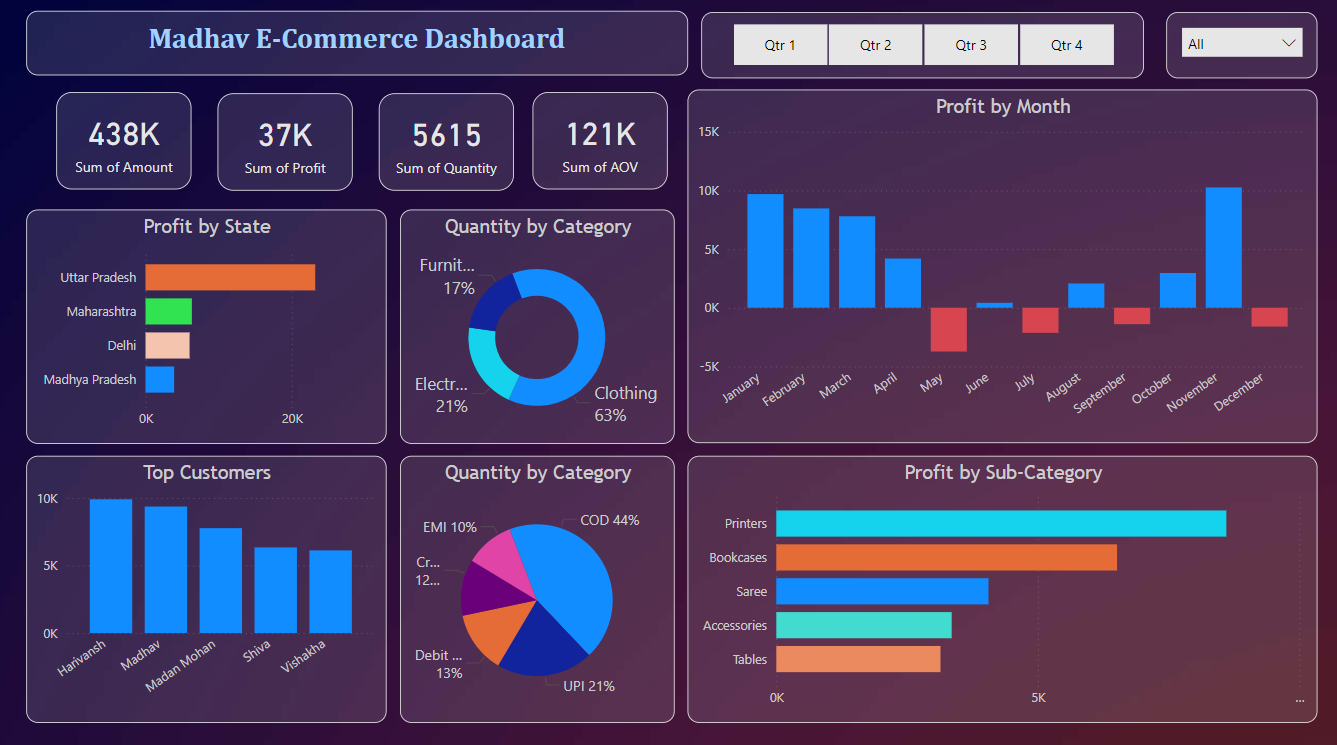

Layout of this report page (visuals, bound fields, positions):
{"tool":"powerbi","page":{"name":"Page 1","canvas":[1280,720],"ordinal":0},"visuals":[{"type":"textbox","box":[30,12.9,630,61.4],"z":0},{"type":"columnChart","title":"Profit by Month","fields":{"Category":["Orders.Order Date.Variation.Date Hierarchy.Month"],"Y":["Details.Profit"]},"box":[660,88.6,600,337.1],"z":1000},{"type":"barChart","title":"Profit by Sub-Category","fields":{"Category":["Details.Sub-Category"],"Y":["Details.Profit"]},"box":[660,437.1,600,254.3],"z":2000},{"type":"donutChart","title":"Quantity by Category","fields":{"Category":["Details.Category"],"Y":["Details.Quantity"]},"box":[385.7,202.9,261.4,222.9],"z":3000},{"type":"donutChart","title":"Quantity by Category","fields":{"Category":["Details.PaymentMode"],"Y":["Details.Quantity"]},"box":[385.7,437.1,261.4,254.3],"z":4000},{"type":"card","fields":{"Values":["Details.Amount"]},"box":[58.6,90,128.6,92.9],"z":5000},{"type":"card","fields":{"Values":["Details.Profit"]},"box":[211.4,91.4,128.6,92.9],"z":6000},{"type":"card","fields":{"Values":["Details.Quantity"]},"box":[365.7,91.4,128.6,92.9],"z":7000},{"type":"card","fields":{"Values":["Details.Average Order Value"]},"box":[511.4,90,128.6,92.9],"z":8000},{"type":"columnChart","title":"Top Customers","fields":{"Category":["Orders.CustomerName"],"Y":["Details.Amount"]},"box":[30,437.1,342.9,254.3],"z":9000},{"type":"barChart","title":"Profit by State","fields":{"Y":["Details.Amount"],"Category":["Orders.State"]},"box":[30,202.9,342.9,222.9],"z":10000},{"type":"slicer","fields":{"Values":["Orders.Order Date.Variation.Date Hierarchy.Quarter"]},"box":[672.9,14.3,421.4,62.9],"z":11000},{"type":"slicer","fields":{"Values":["Orders.State"]},"box":[1115.7,14.3,144.3,62.9],"z":11001}]}

Visuals, with their boxes in screenshot pixels (x1, y1, x2, y2), scaled from the page's 1280x720 canvas onto the 1337x745 screenshot:
textbox: left=31, top=13, right=689, bottom=77
"Profit by Month" columnChart: left=689, top=92, right=1316, bottom=440
"Profit by Sub-Category" barChart: left=689, top=452, right=1316, bottom=715
"Quantity by Category" donutChart: left=403, top=210, right=676, bottom=441
"Quantity by Category" donutChart: left=403, top=452, right=676, bottom=715
card - Details.Amount: left=61, top=93, right=196, bottom=189
card - Details.Profit: left=221, top=95, right=355, bottom=191
card - Details.Quantity: left=382, top=95, right=516, bottom=191
card - Details.Average Order Value: left=534, top=93, right=668, bottom=189
"Top Customers" columnChart: left=31, top=452, right=390, bottom=715
"Profit by State" barChart: left=31, top=210, right=390, bottom=441
slicer - Orders.Order Date.Variation.Date Hierarchy.Quarter: left=703, top=15, right=1143, bottom=80
slicer - Orders.State: left=1165, top=15, right=1316, bottom=80
